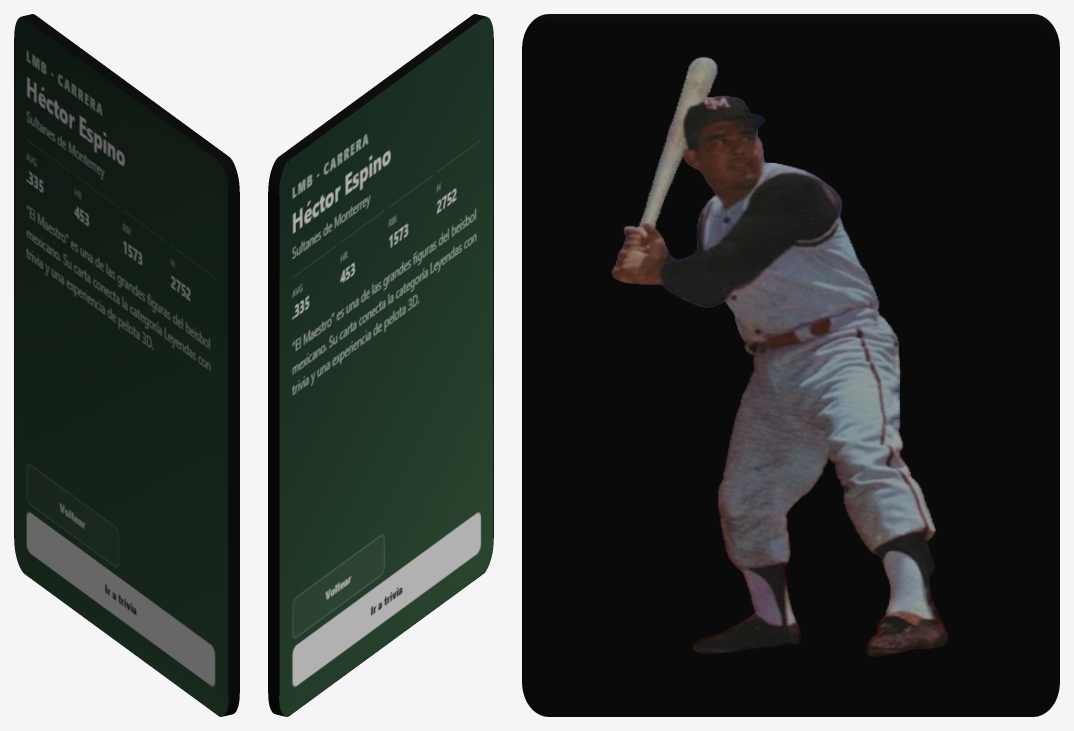
The model's file is tarjeta_Hector.glb.
3 renders of one model, left to right at view 1: azimuth 30°, elevation 25°; view 2: azimuth 150°, elevation 25°; view 3: azimuth 270°, elevation 25°, orthographic. The views are drawn at different scales.
Parts seen in each view (by area): view 1: card_blanck; view 2: card_blanck; view 3: card_blanck.
Boxes of the visible parts, x1,y1,x2,y2 form: card_blanck: [14, 14, 239, 716]; card_blanck: [268, 14, 493, 716]; card_blanck: [522, 14, 1059, 716].
Bounding box in the file's own units: 0.018 × 0.8067 × 0.5647.
Materials: 1 (1 with a texture image).
